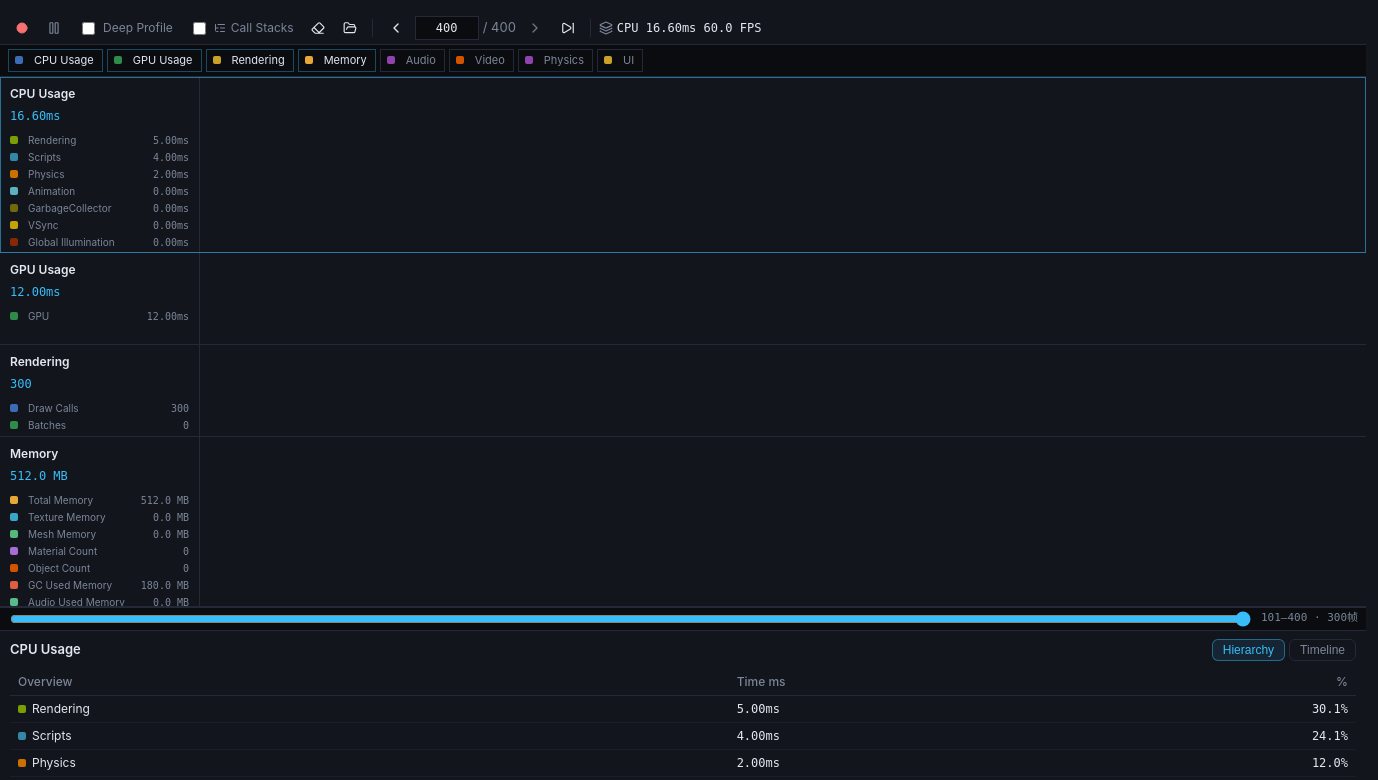
Test case: ProfilerView 时间轴视口 › 点选历史帧后停止跟随（视图暂停）
Click the button named "上一帧".
click(396, 28)  # box x1=381 y1=15 x2=411 y2=41
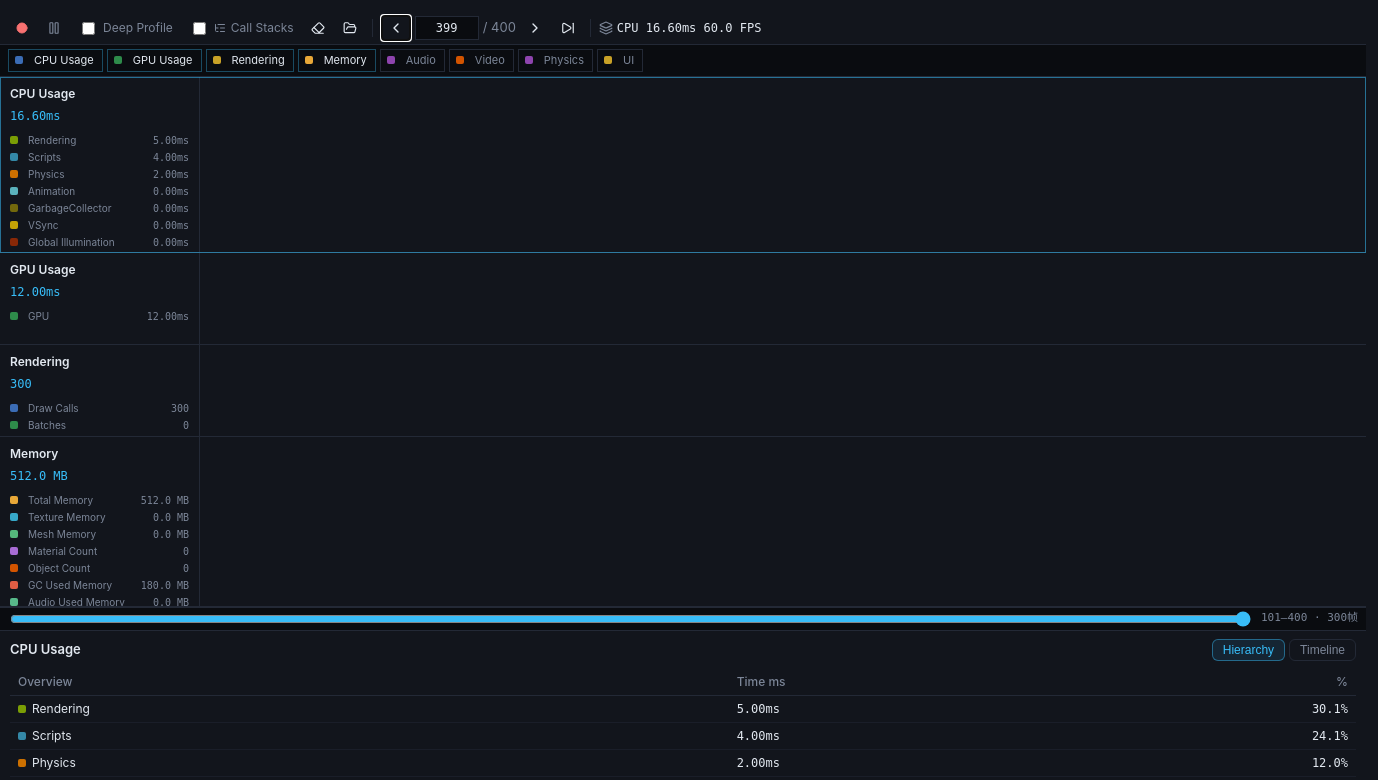
Expected: the field named "当前帧" holds "399", x1=415 y1=16 x2=479 y2=40
